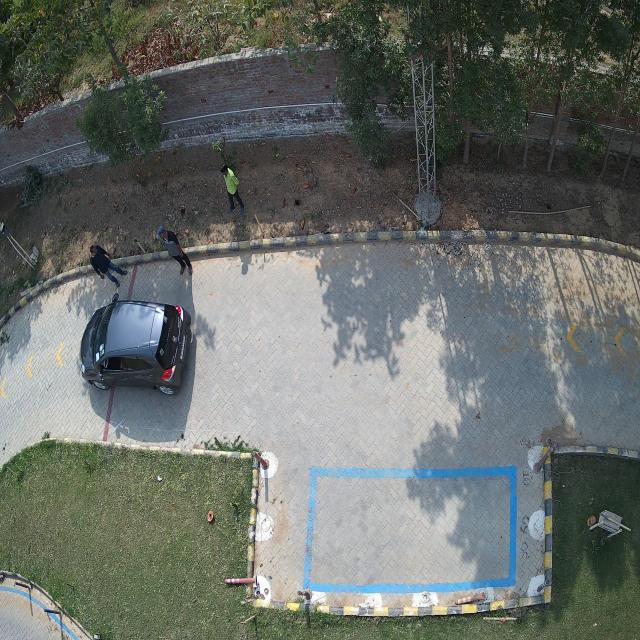car: (80, 295, 192, 395)
